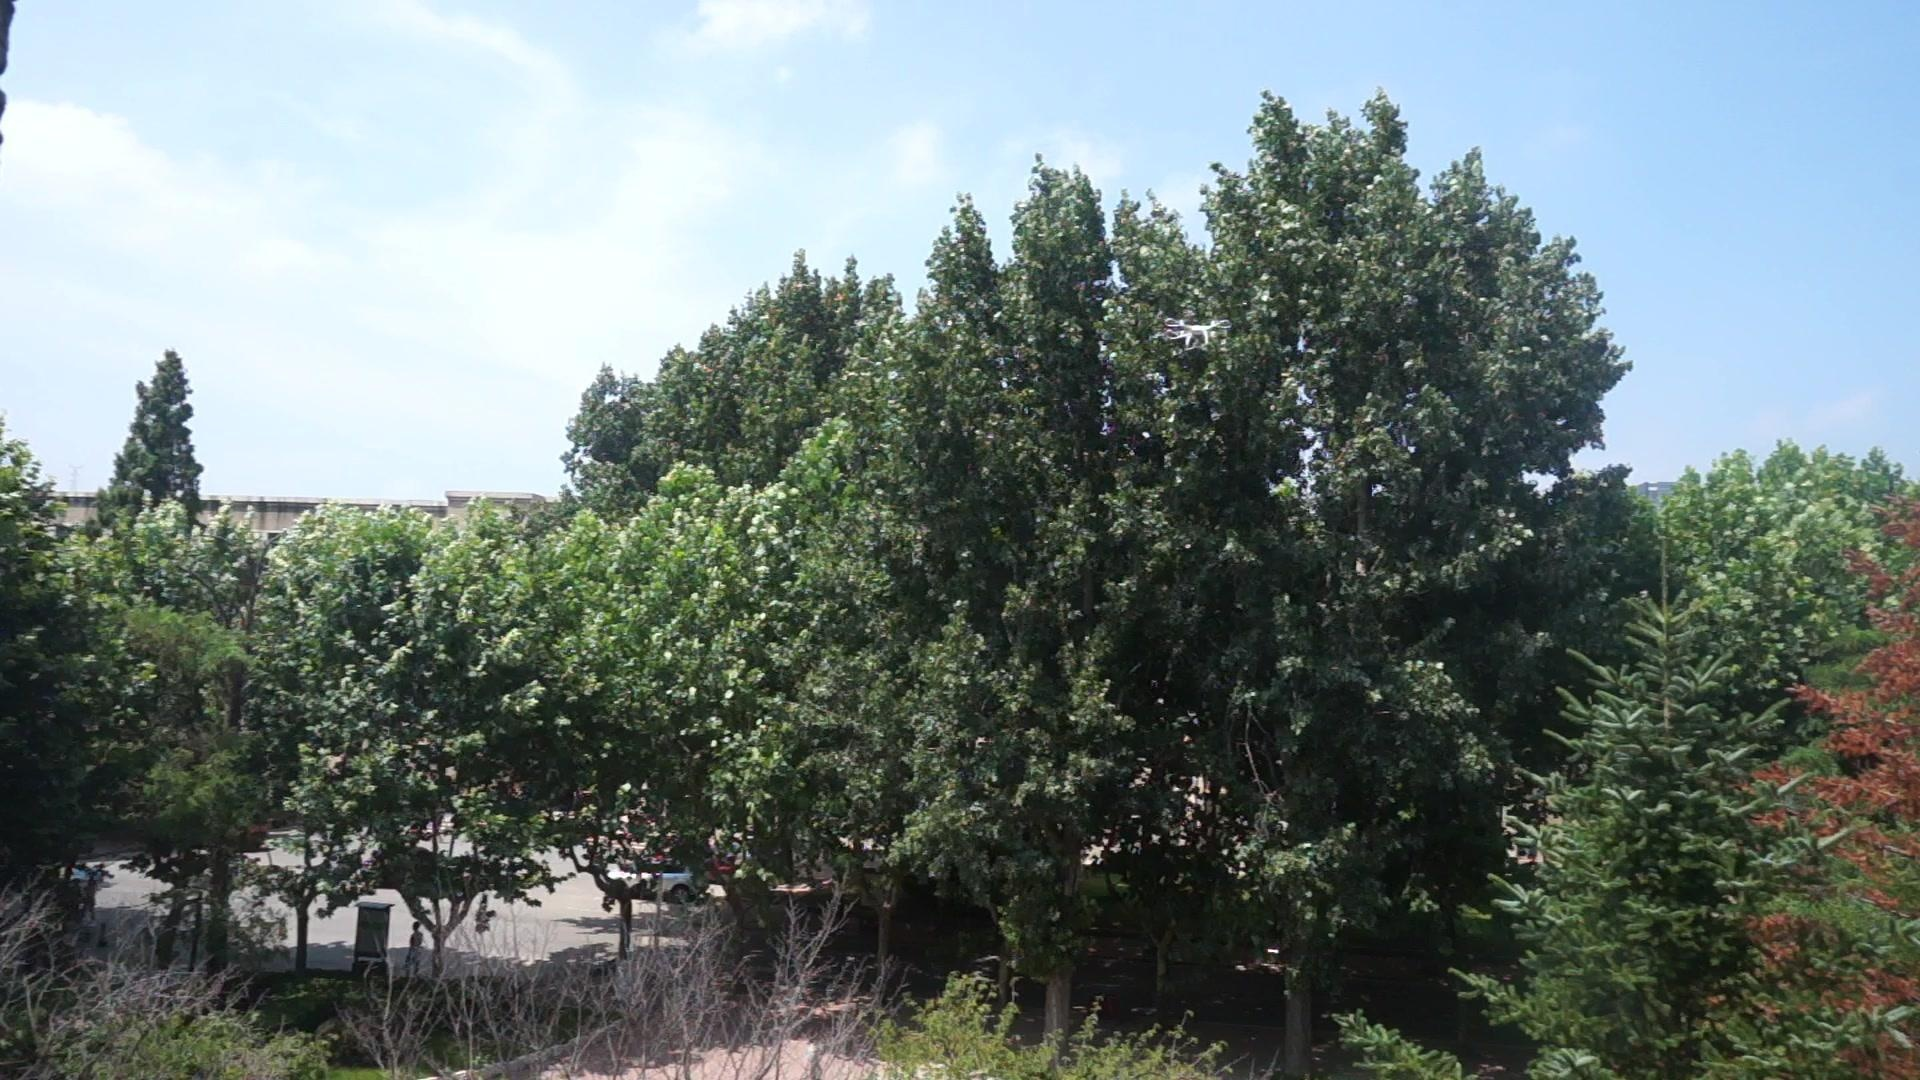UAV: (1164, 316, 1233, 347)
